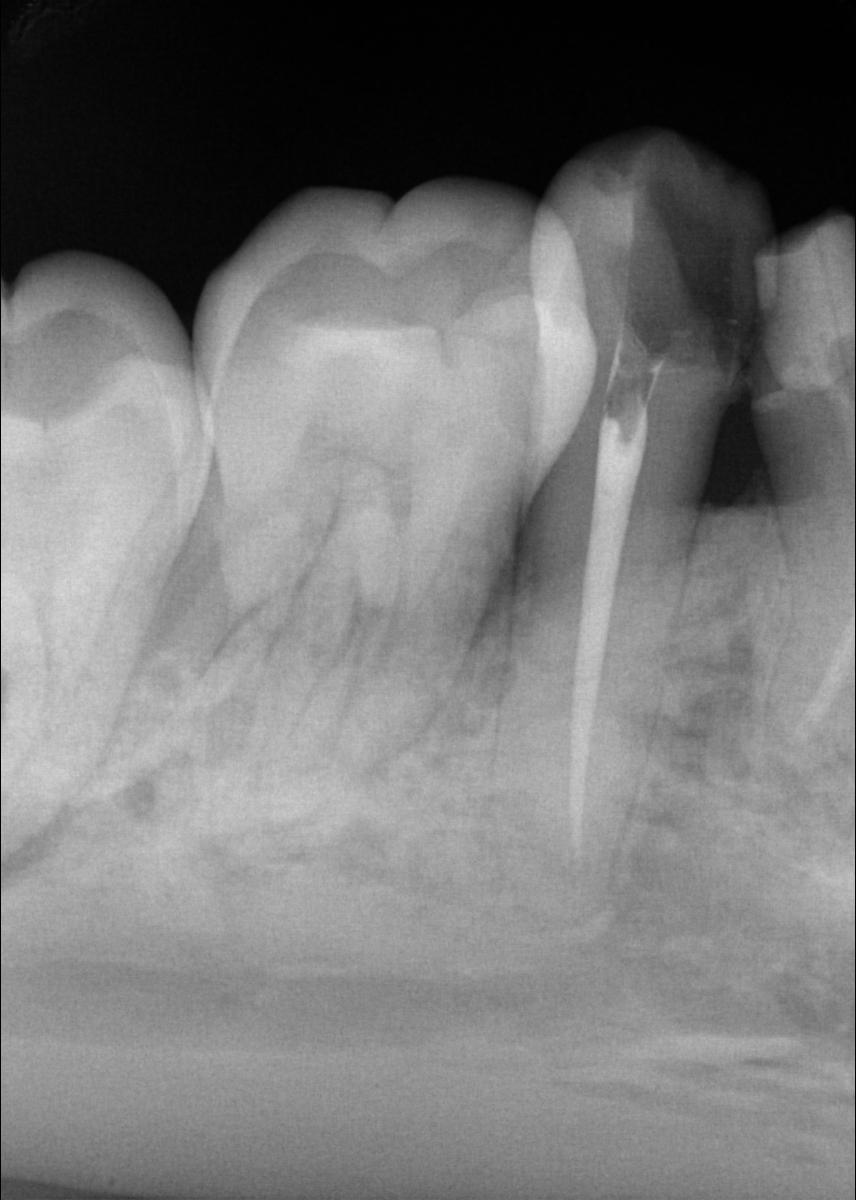Furcation Involvement: (0, 804, 71, 893)
